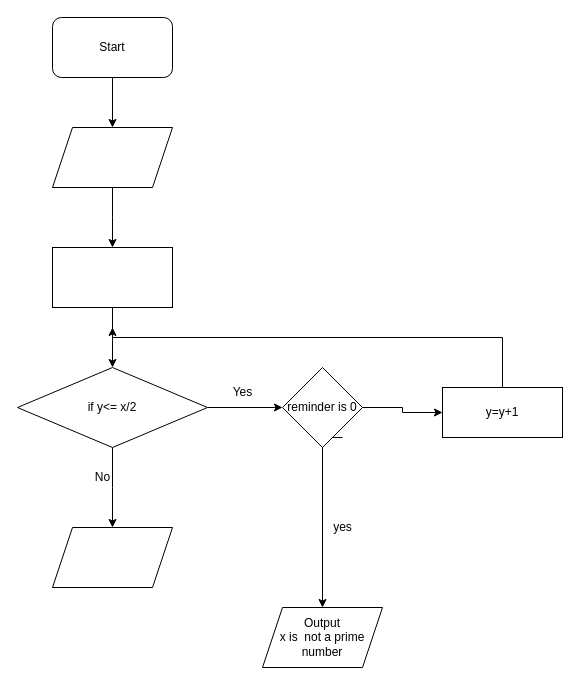
This 580x685 diagram has some shape labels left out. Here are the shapes that lost their labels. From the top down, the box of each, then its label:
(52, 126, 172, 188): Input X
(52, 246, 172, 308): y=2
(52, 526, 172, 588): Output X is Prime
